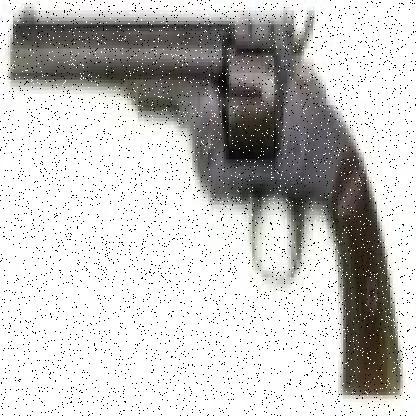pistol: (10, 14, 405, 399)
